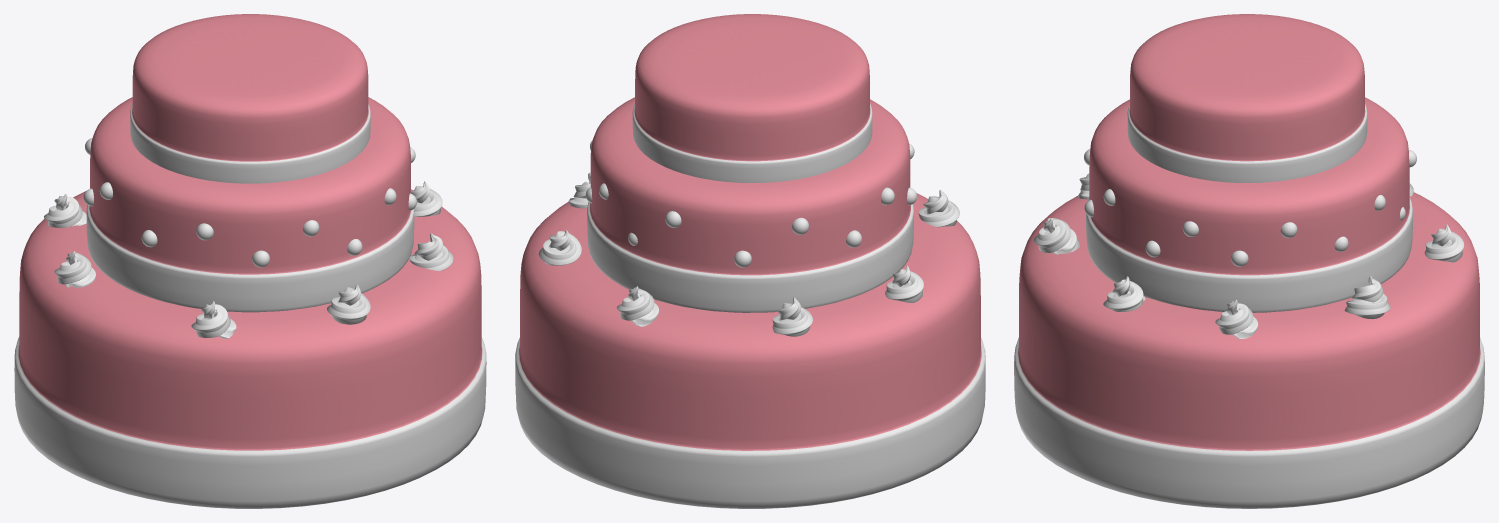
The model's file is cake3d.fbx.
3 views of the same model, side by side, from view 1: azimuth 30°, elevation 25°; view 2: azimuth 150°, elevation 25°; view 3: azimuth 270°, elevation 25° (orthographic).
Parts seen in each view (by area): view 1: Cake layer 1.001, Cake layer 1, Cake layer 1.002, Spiral.003, Spiral.007, Spiral.004, Spiral.005, Spiral.008, Spiral.000; view 2: Cake layer 1.001, Cake layer 1, Cake layer 1.002, Spiral.002, Spiral.006, Spiral.008, Spiral.007, Spiral.004; view 3: Cake layer 1.001, Cake layer 1, Cake layer 1.002, Spiral.006, Spiral.003, Spiral.000, Spiral.002, Spiral.005.
Part boxes in pixels (left/top/right/bottom): Cake layer 1.001: left=14, top=189, right=486, bottom=508; Cake layer 1: left=86, top=97, right=414, bottom=312; Cake layer 1.002: left=130, top=14, right=370, bottom=183; Spiral.003: left=327, top=284, right=370, bottom=324; Spiral.007: left=191, top=301, right=236, bottom=338; Spiral.004: left=54, top=251, right=95, bottom=287; Spiral.005: left=409, top=233, right=453, bottom=270; Spiral.008: left=44, top=193, right=86, bottom=227; Spiral.000: left=411, top=181, right=442, bottom=216; Cake layer 1.001: left=515, top=193, right=985, bottom=508; Cake layer 1: left=587, top=97, right=913, bottom=312; Cake layer 1.002: left=632, top=14, right=872, bottom=182; Spiral.002: left=616, top=286, right=659, bottom=327; Spiral.006: left=538, top=230, right=581, bottom=265; Spiral.008: left=772, top=297, right=812, bottom=336; Spiral.007: left=918, top=189, right=959, bottom=227; Spiral.004: left=885, top=265, right=923, bottom=302; Cake layer 1.001: left=1014, top=192, right=1484, bottom=508; Cake layer 1: left=1086, top=97, right=1412, bottom=312; Cake layer 1.002: left=1127, top=14, right=1367, bottom=182; Spiral.006: left=1344, top=276, right=1390, bottom=319; Spiral.003: left=1034, top=218, right=1079, bottom=254; Spiral.000: left=1215, top=299, right=1258, bottom=339; Spiral.002: left=1424, top=224, right=1464, bottom=262; Spiral.005: left=1103, top=276, right=1145, bottom=311.
Bounding box in the file's own units: 888 × 740 × 888.
